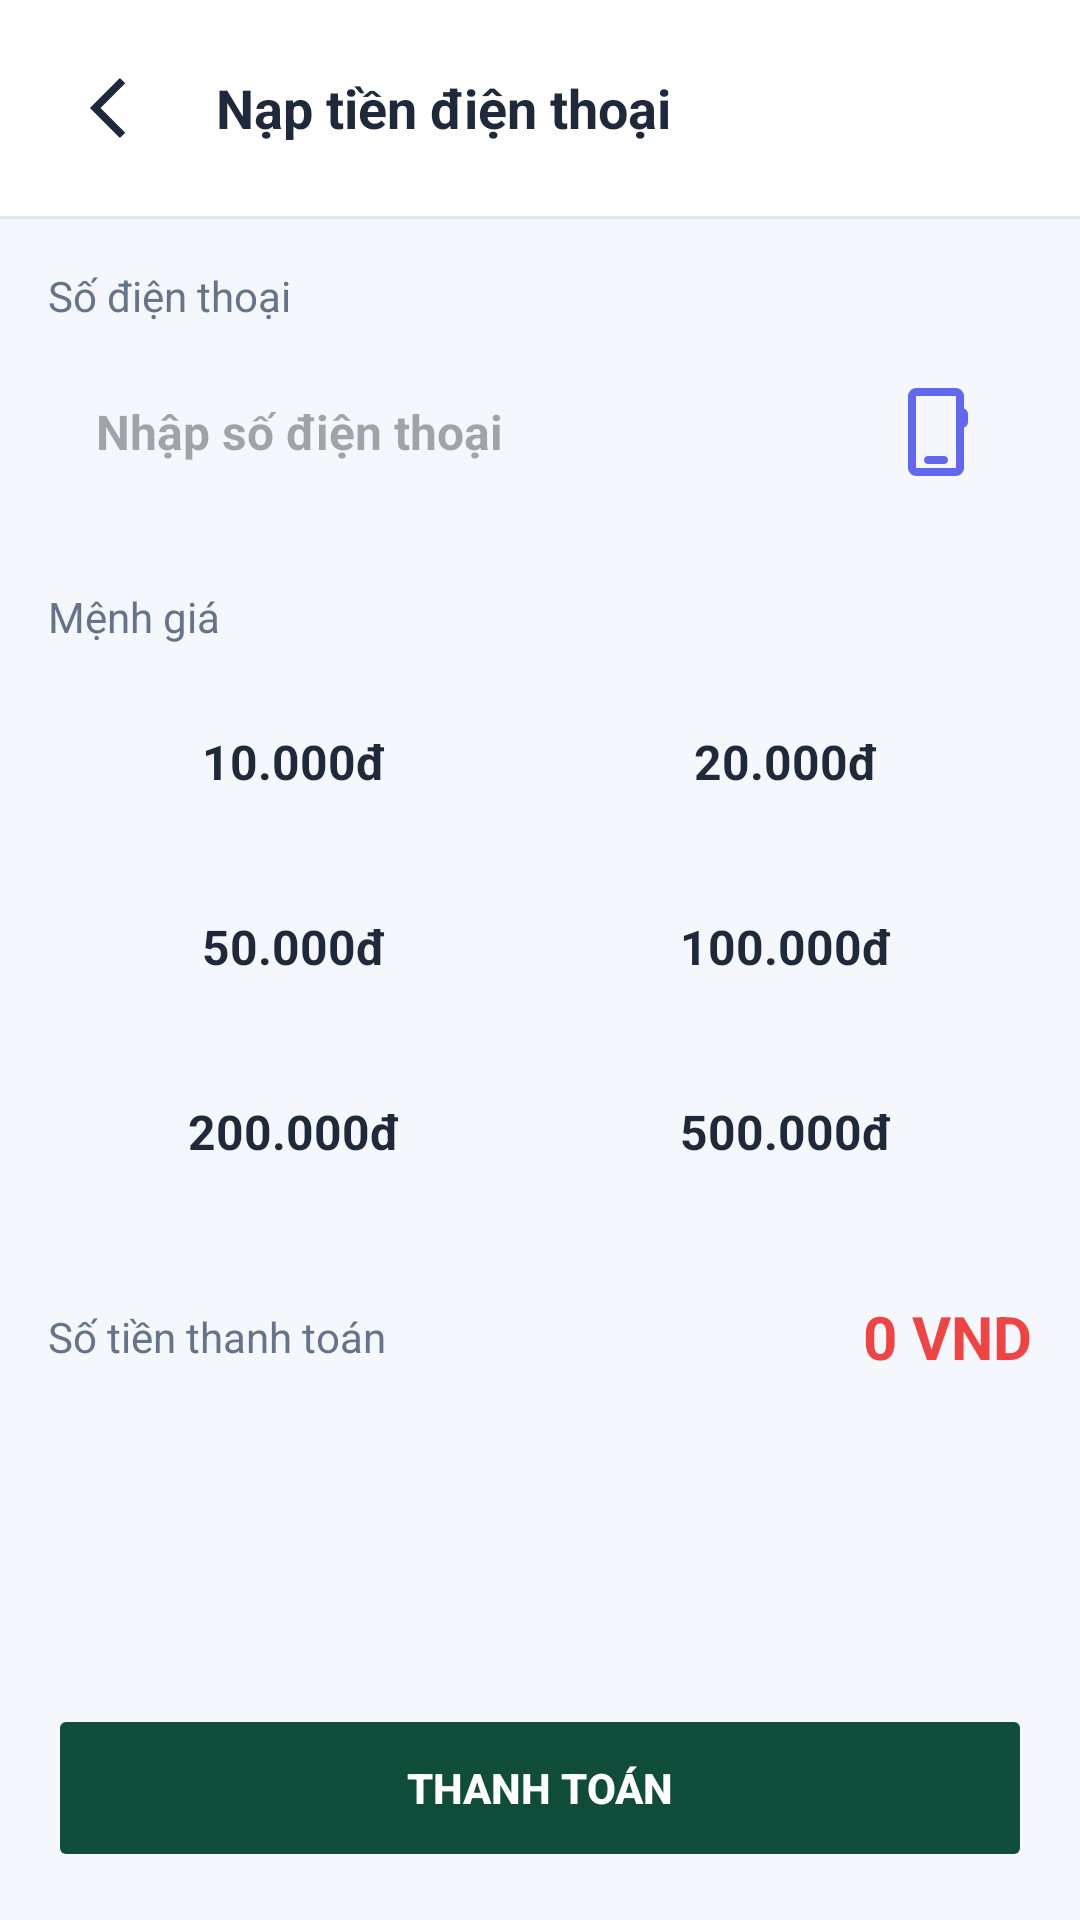

Icon click points for this 1080×1920 phone screenshot, format point (x, y):
mobile: point (938, 432)
